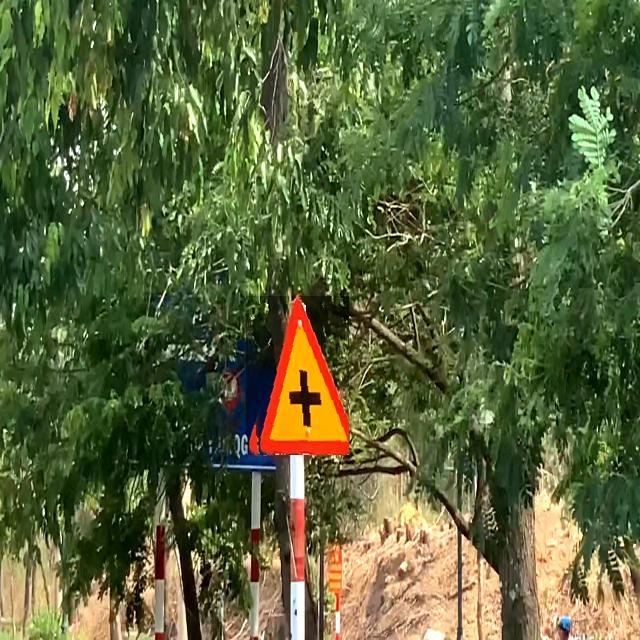W-205a: (246, 296, 349, 455)
